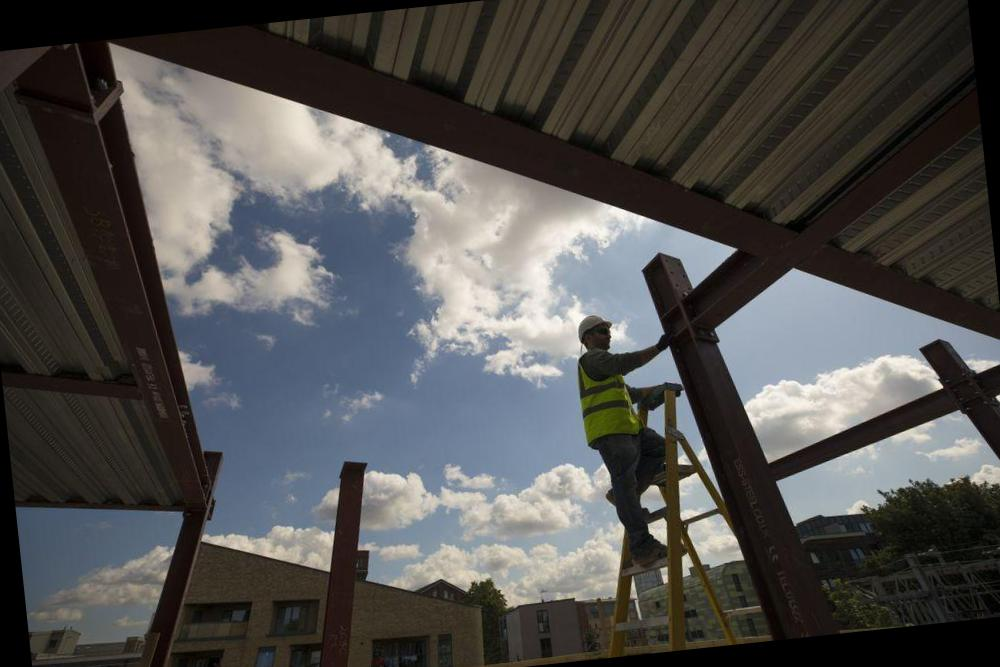Vest: (572, 347, 652, 452)
